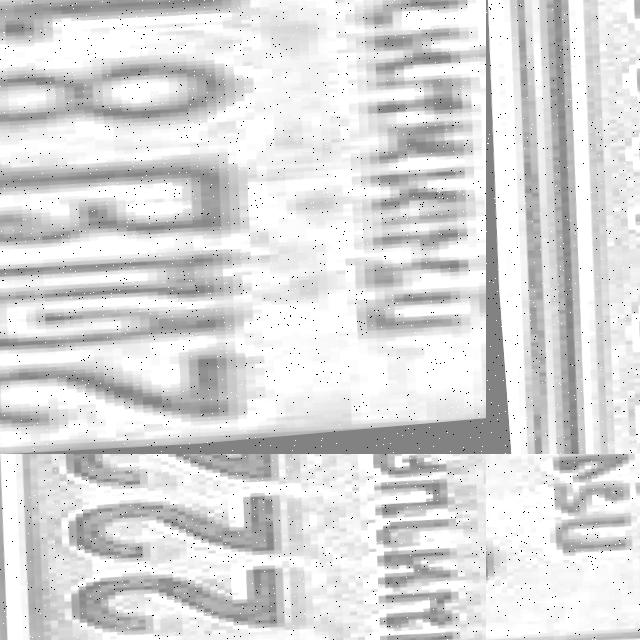license-plate: (0, 0, 486, 454), (0, 454, 486, 640), (499, 0, 640, 454), (486, 454, 640, 640)
